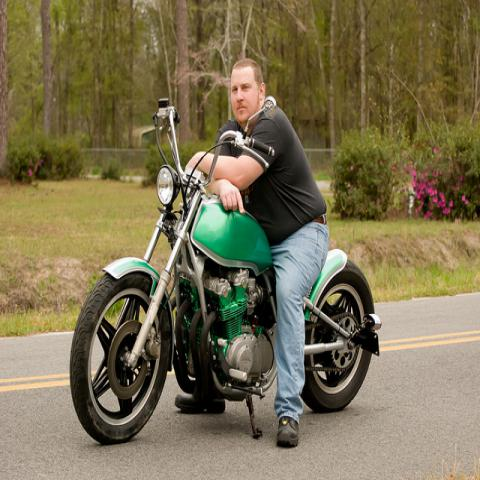motorcycle: (67, 96, 383, 448)
